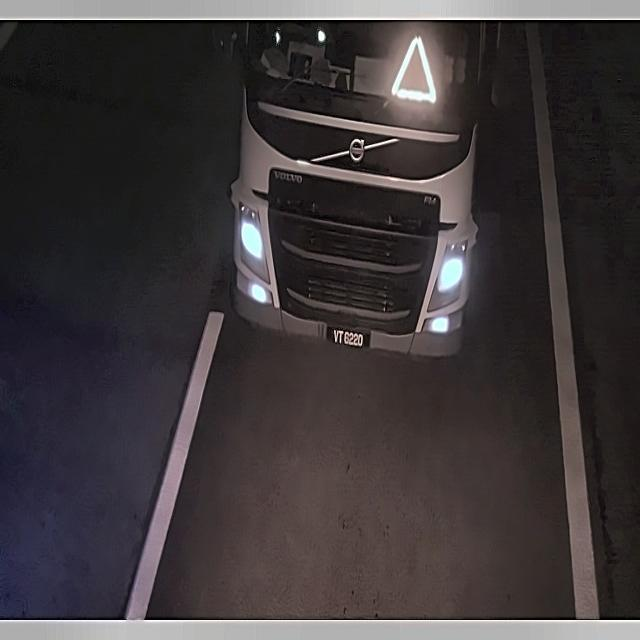car: (323, 316, 375, 353)
